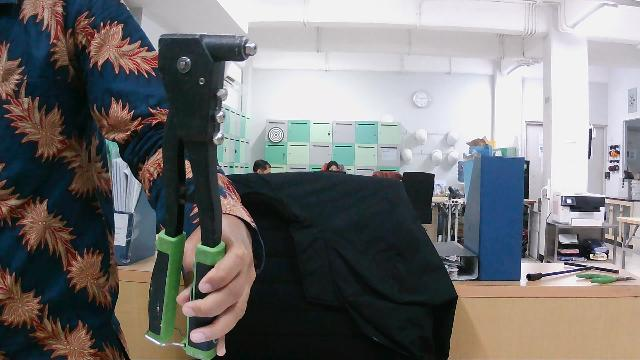tang_rivet: (136, 24, 269, 360)
